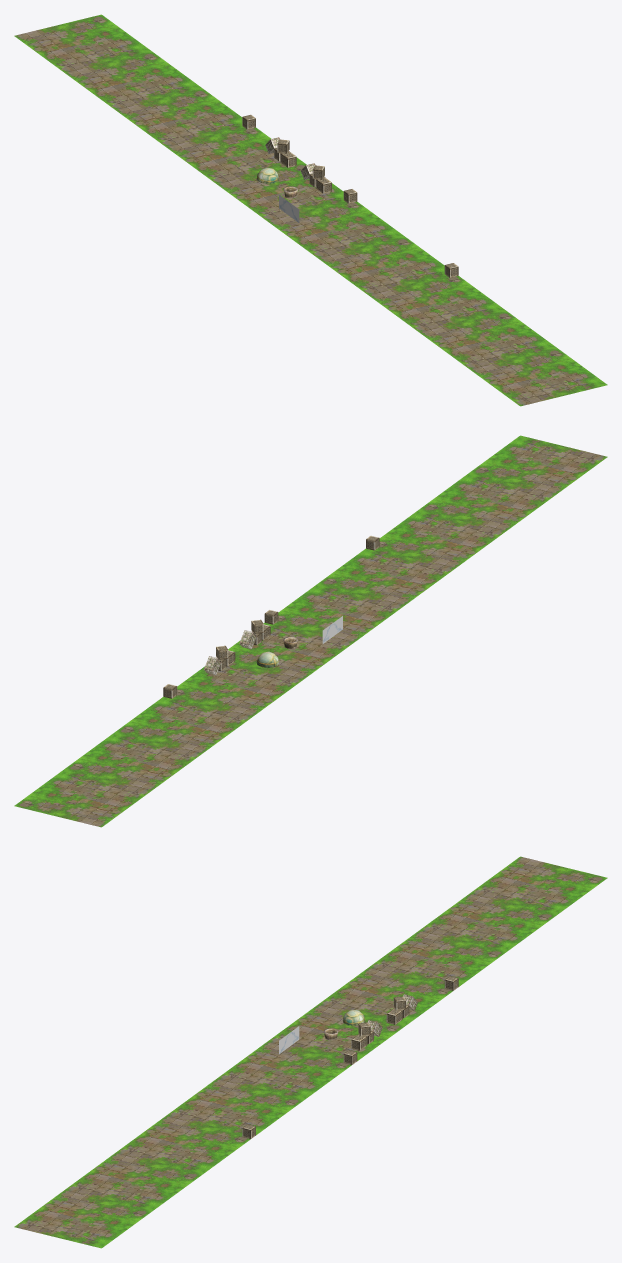
3 renders of one model, top to bottom at view 1: azimuth 30°, elevation 25°; view 2: azimuth 150°, elevation 25°; view 3: azimuth 330°, elevation 25°, orthographic.
Visible parts, largest first — view 1: !ground; view 2: !ground; view 3: !ground.
Part boxes in pixels (x1,y1,x2,y2): !ground: [14, 14, 607, 406]; !ground: [14, 435, 607, 827]; !ground: [14, 856, 607, 1248].
Size of the model in its own units: 2000 by 630 by 20000.
